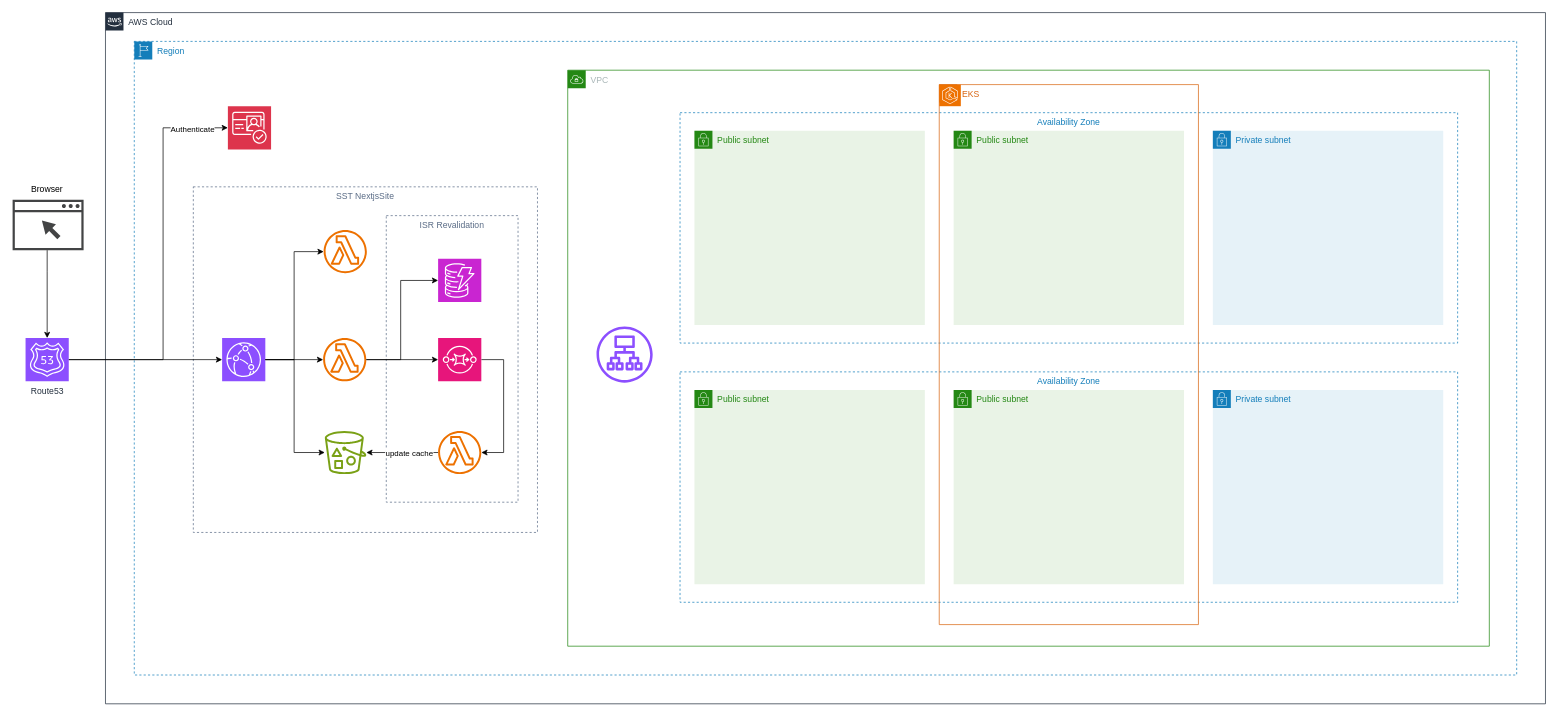
This 1558x716 diagram has some shape labels left out. The shapes that lost their labels are listed below. From the top down, each one's centre as x and y in pixels, then its label:
At [249,127]: "Cognito".
At [344,251]: "Image Optimization Function".
At [459,280]: "Tag to path mapping".
At [243,359]: "Cloudfront".
At [344,359]: "Server Function".
At [459,359]: "Revalidation Queue".
At [345,452]: "Asset Bucket".
At [459,452]: "Revalidation Function".
